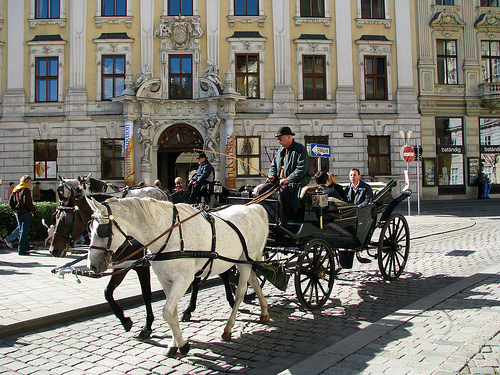horse: (85, 194, 271, 357), (48, 176, 206, 341)
